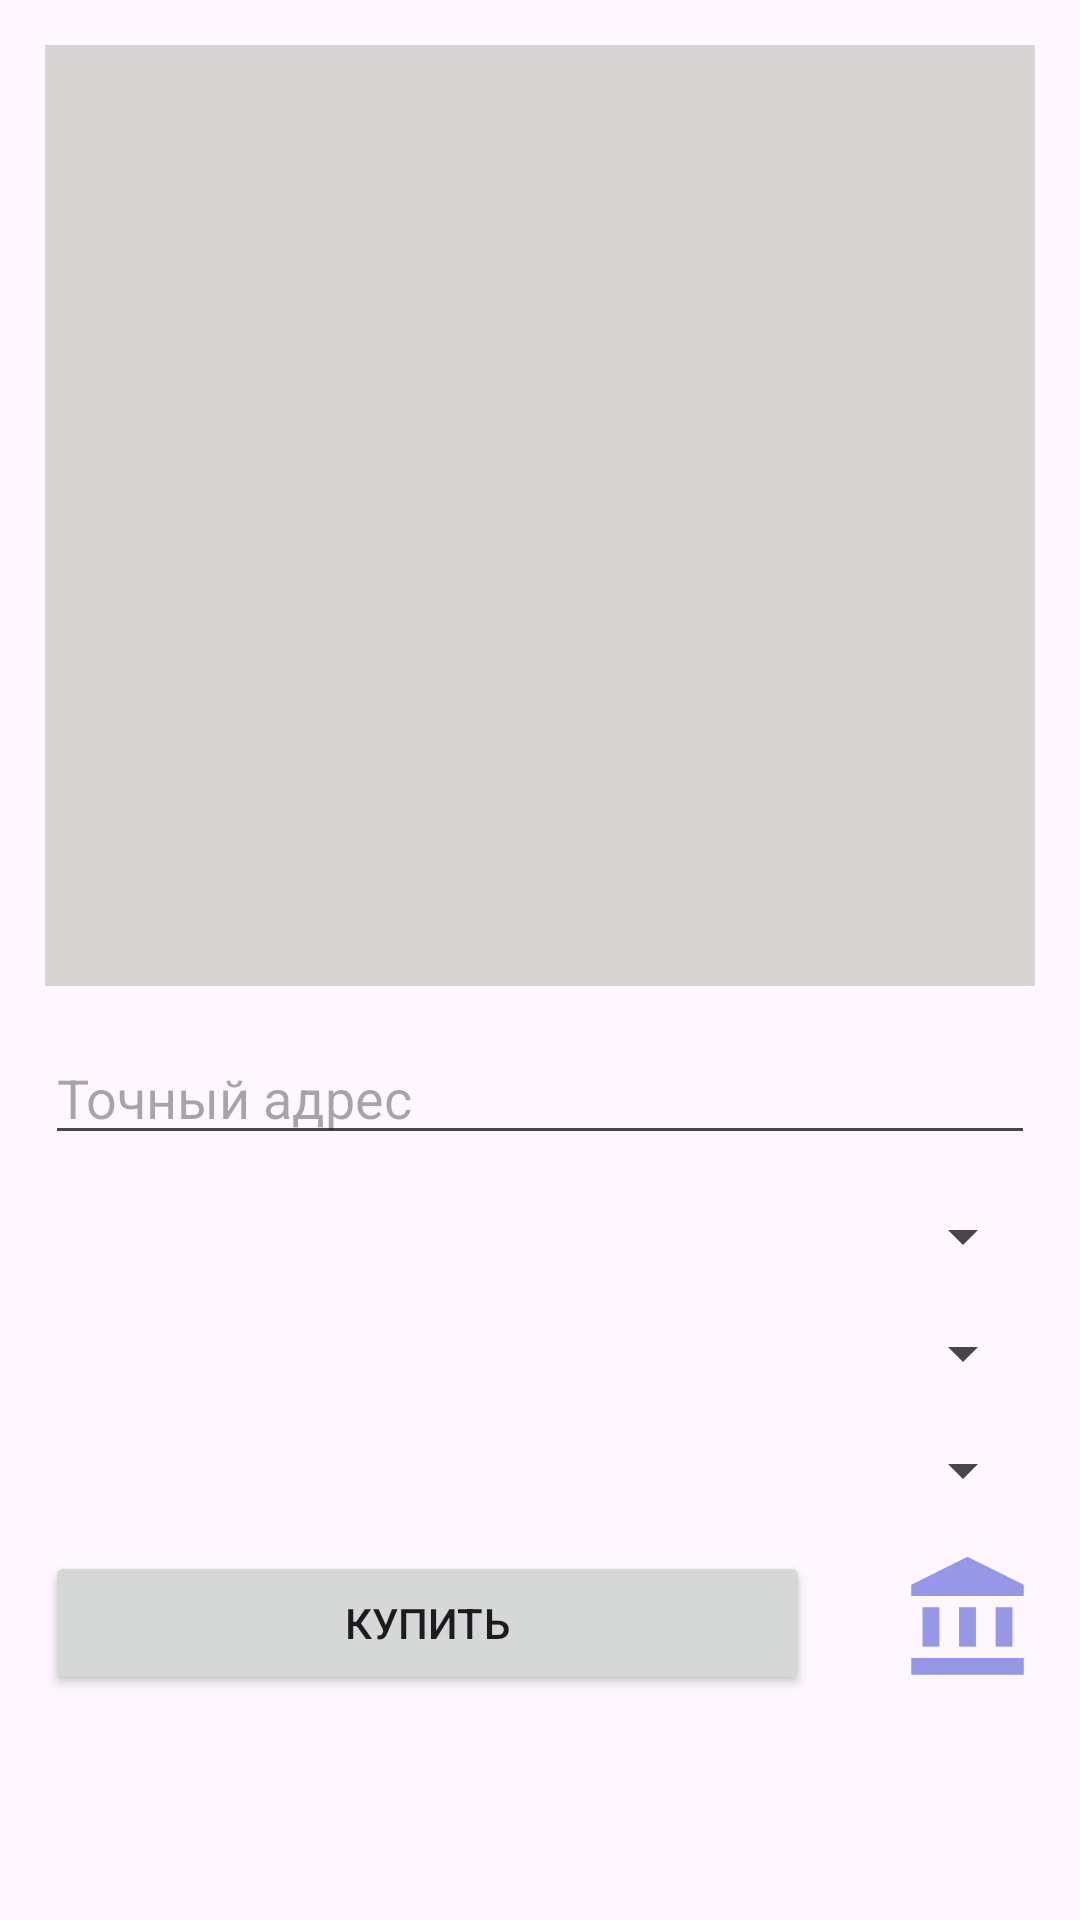

Icon click points for this 1080 x 1920 phone screenshot, format (x=x, y=y):
account balance: (x=967, y=1616)
